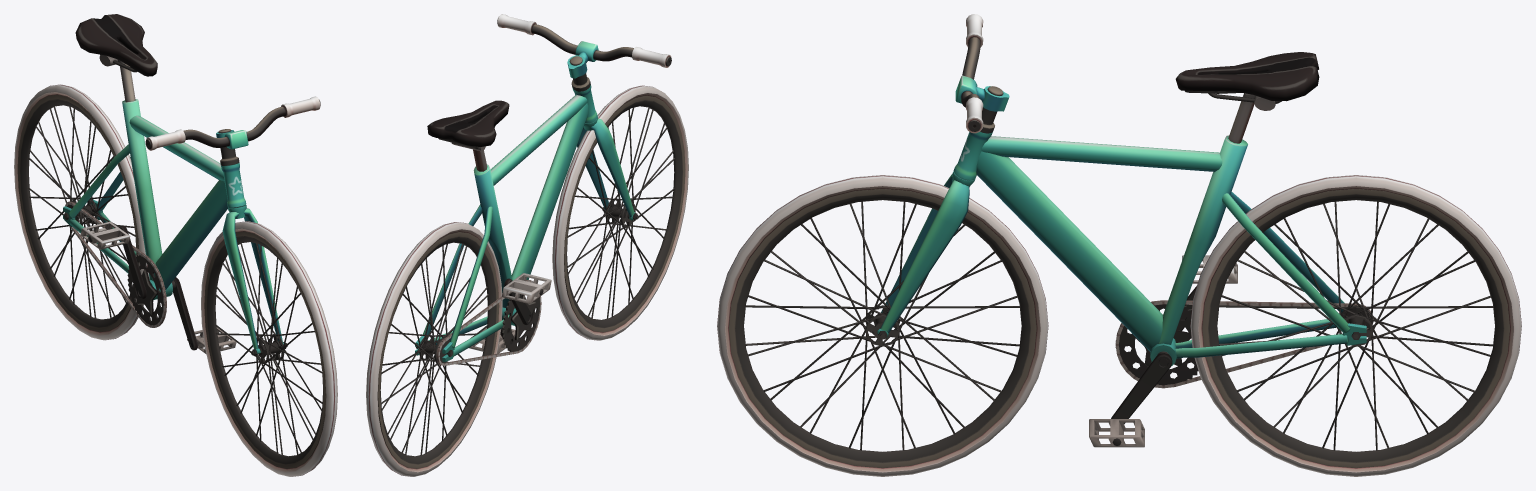
Rendered from bicyclee.obj.
The picture shows the model from 3 angles, left to right: view 1: azimuth 30°, elevation 25°; view 2: azimuth 150°, elevation 25°; view 3: azimuth 270°, elevation 25°; orthographic projection. The views are drawn at different scales.
Visible parts, largest first — view 1: mesh_bike_mesh_base_bike_0_mesh_bike_mesh_base_bike_0.002; view 2: mesh_bike_mesh_base_bike_0_mesh_bike_mesh_base_bike_0.002; view 3: mesh_bike_mesh_base_bike_0_mesh_bike_mesh_base_bike_0.002.
Part boxes in pixels (x1=…): mesh_bike_mesh_base_bike_0_mesh_bike_mesh_base_bike_0.002: x1=14, y1=14, x2=337, y2=476; mesh_bike_mesh_base_bike_0_mesh_bike_mesh_base_bike_0.002: x1=366, y1=14, x2=688, y2=476; mesh_bike_mesh_base_bike_0_mesh_bike_mesh_base_bike_0.002: x1=717, y1=14, x2=1521, y2=476.
Size of the model in its own units: 0.9953 by 1.83 by 3.22.
1 material, 1 textured.
